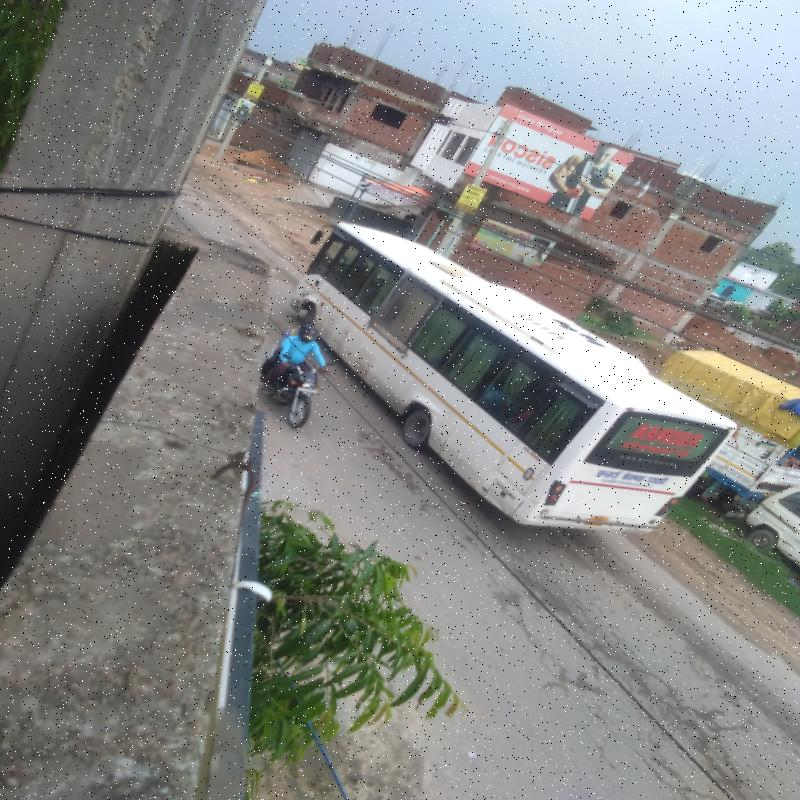bus: (268, 232, 732, 547)
